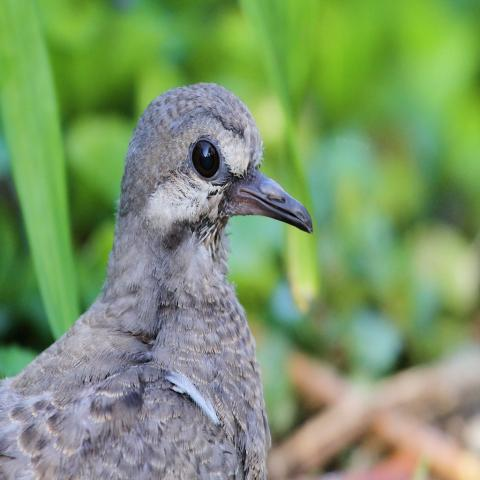bird: (1, 79, 314, 477)
